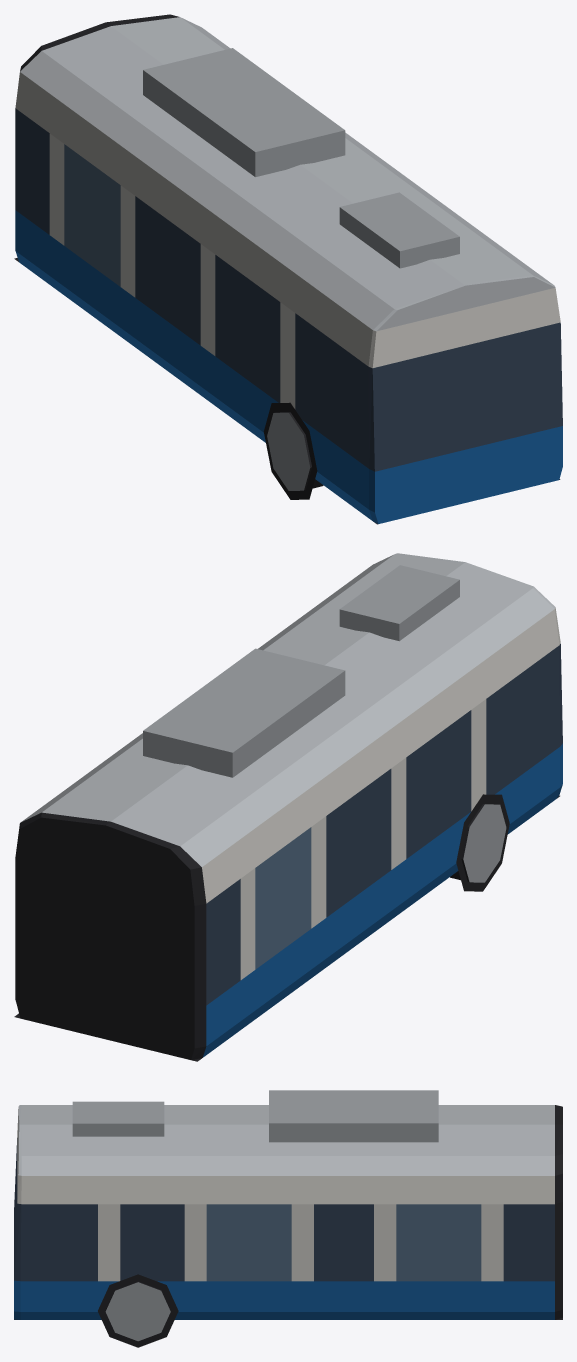
The model's file is bus_hinten.glb.
3 views of the same model, one above another, from view 1: azimuth 30°, elevation 25°; view 2: azimuth 150°, elevation 25°; view 3: azimuth 270°, elevation 25° (orthographic). The views are drawn at different scales.
Parts seen in each view (by area): view 1: body; view 2: body; view 3: body.
Boxes of the visible parts, x1,y1,x2,y2 form: body: [14, 14, 562, 524]; body: [14, 553, 562, 1061]; body: [14, 1090, 562, 1347].
Bounding box in the file's own units: 2.62 × 3.47 × 8.4.
